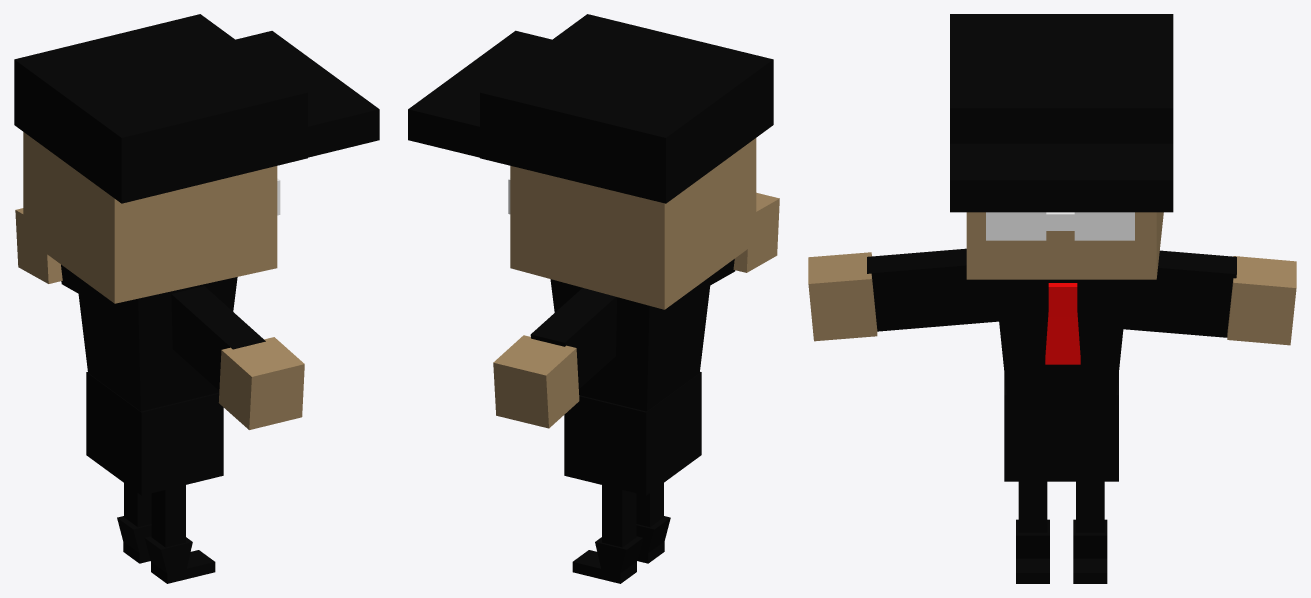
File: personaje.fbx
The picture shows the model from 3 angles, left to right: view 1: azimuth 30°, elevation 25°; view 2: azimuth 150°, elevation 25°; view 3: azimuth 270°, elevation 25°; orthographic projection. The views are drawn at different scales.
Visible parts, largest first — view 1: pasted__pCube2 (×3), pCube1, pasted__pCube3, pCube3; view 2: pasted__pCube2 (×3), pCube1, pCube3, pasted__pCube3; view 3: pasted__pCube2 (×3), pCube1, pasted__pCube3, pCube3, pasted__pCube5 (×2), pCube4, pCube5.
Part boxes in pixels (<box>): pasted__pCube2 (×3): <box>14,14,379,583</box>; pCube1: <box>61,264,265,411</box>; pasted__pCube3: <box>218,337,304,429</box>; pCube3: <box>15,208,62,283</box>; pasted__pCube2 (×3): <box>408,14,773,583</box>; pCube1: <box>530,259,735,411</box>; pCube3: <box>493,335,579,428</box>; pasted__pCube3: <box>733,192,779,272</box>; pasted__pCube2 (×3): <box>950,14,1173,583</box>; pCube1: <box>867,248,1236,409</box>; pasted__pCube3: <box>808,252,877,341</box>; pCube3: <box>1227,256,1296,345</box>; pasted__pCube5 (×2): <box>986,212,1134,240</box>; pCube4: <box>1045,283,1080,364</box>; pCube5: <box>1029,212,1089,230</box>.
Bounding box in the file's own units: 1.01 × 1.82 × 1.59.
